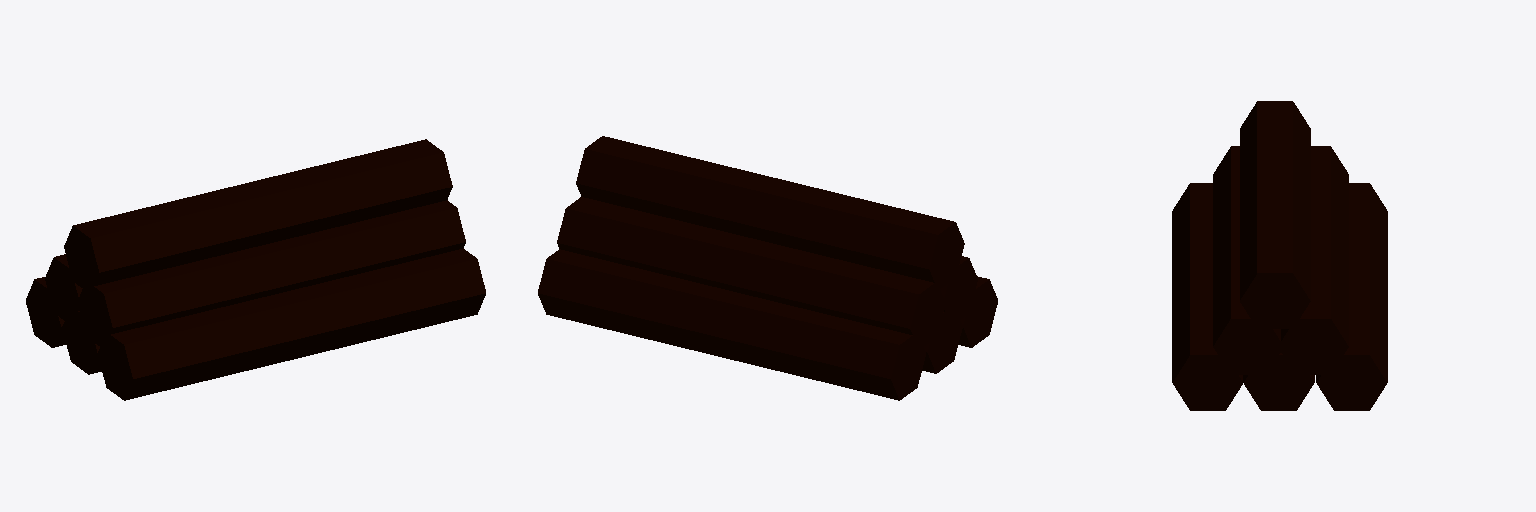
The model's file is fireplace_wood.obj.
3 renders of one model, left to right at view 1: azimuth 30°, elevation 25°; view 2: azimuth 150°, elevation 25°; view 3: azimuth 270°, elevation 25°, orthographic.
Visible parts, largest first — view 1: simple_stick.008_Cylinder.032; view 2: simple_stick.008_Cylinder.032; view 3: simple_stick.008_Cylinder.032.
Part boxes in pixels (left/top/right/bottom): simple_stick.008_Cylinder.032: left=26, top=139, right=485, bottom=400; simple_stick.008_Cylinder.032: left=538, top=136, right=997, bottom=400; simple_stick.008_Cylinder.032: left=1172, top=101, right=1387, bottom=410.
Size of the model in its own units: 3.46 by 1.29 by 1.82.